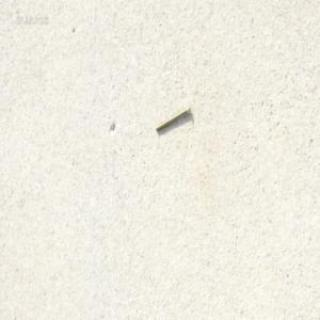Bolttrack_idkeyframe: (154, 103, 189, 132)
